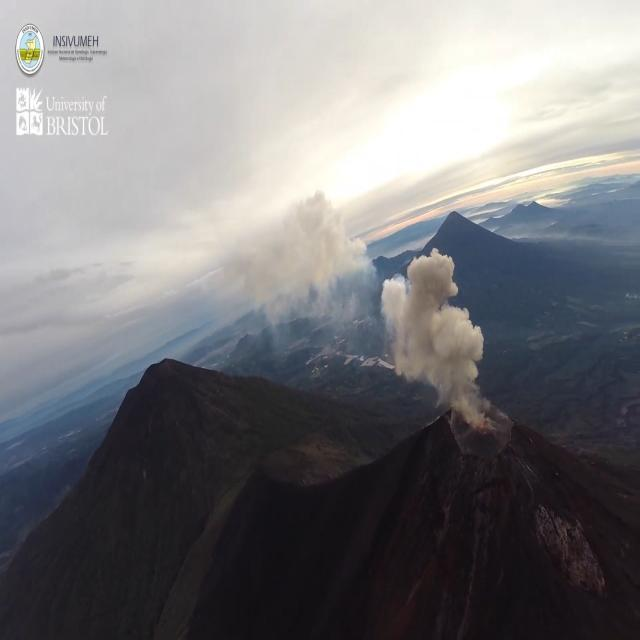Plume: (202, 182, 372, 322), (376, 237, 486, 393)
Summit: (434, 404, 530, 557)
